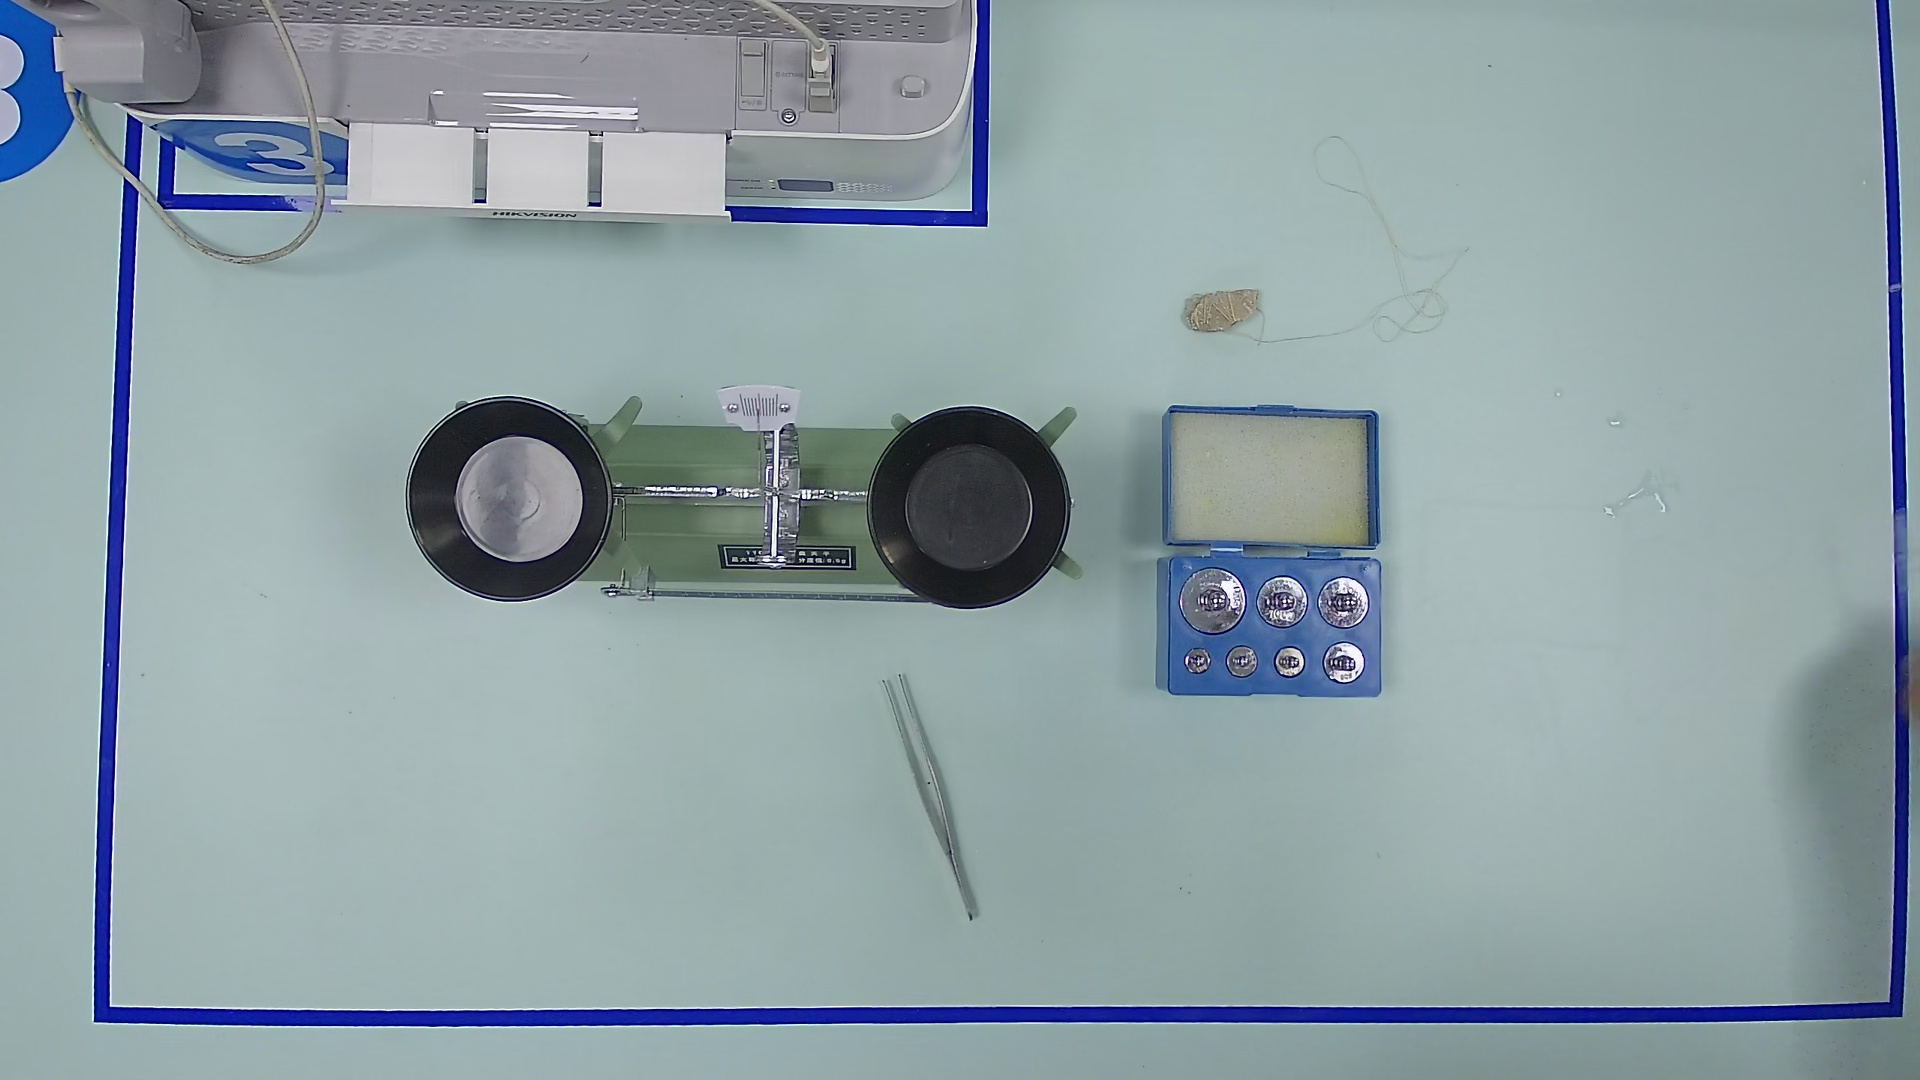fama: (1175, 562, 1250, 640), (1253, 571, 1313, 632), (1315, 574, 1373, 633), (1320, 640, 1369, 688), (1222, 644, 1262, 682), (1271, 644, 1309, 682), (1182, 645, 1215, 678)
gan: (593, 558, 920, 632)
he: (1110, 516, 1431, 742)
niezi: (849, 669, 1029, 949)
pointer: (720, 384, 798, 429)
shi: (1180, 276, 1270, 345)
tuo: (844, 378, 1098, 637), (389, 377, 636, 622)
you: (622, 559, 659, 609)
